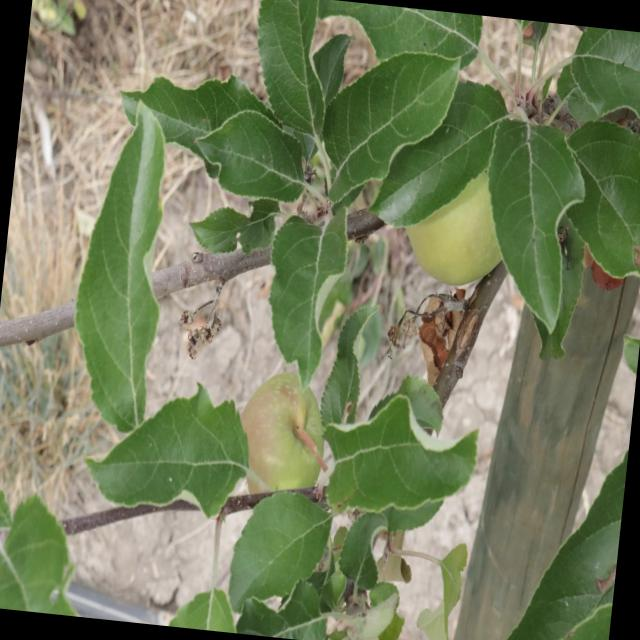-FireBlight-: (419, 293, 475, 388)
